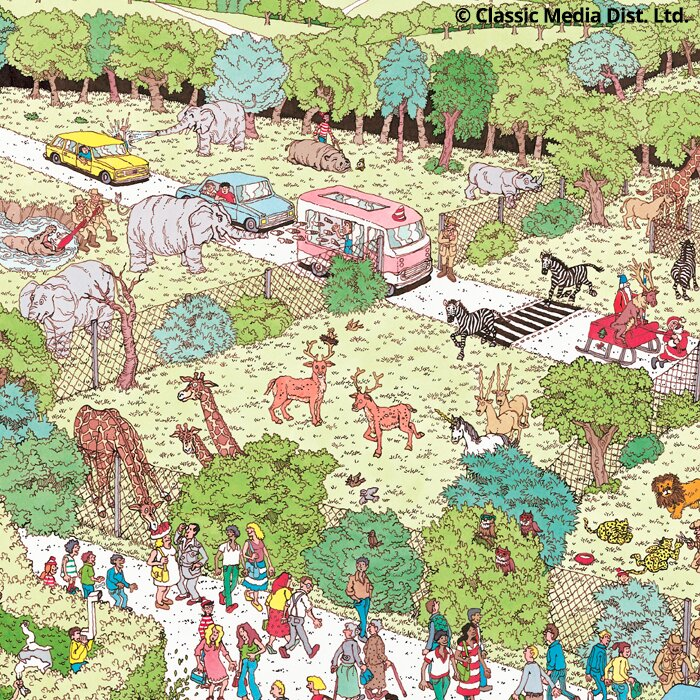Waldo: (311, 108, 338, 144)
